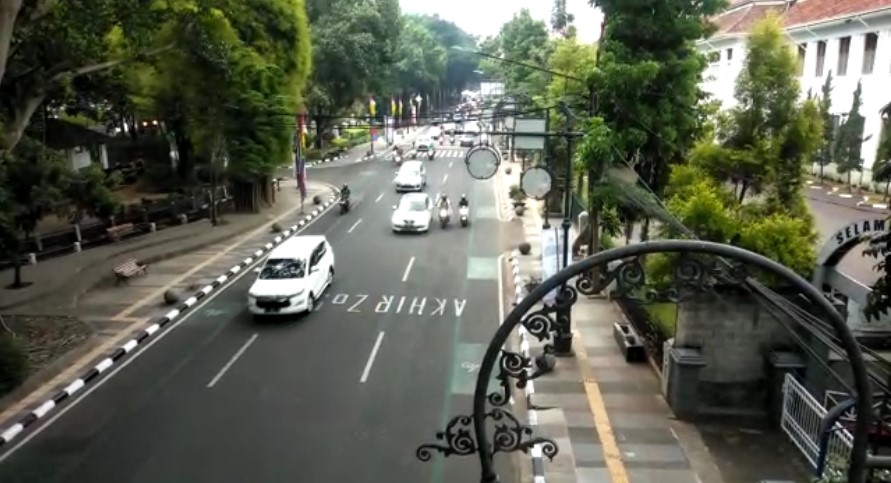mobil: (248, 236, 336, 316), (390, 191, 434, 232)
motor: (336, 184, 354, 214), (437, 194, 452, 225), (457, 195, 470, 223)
